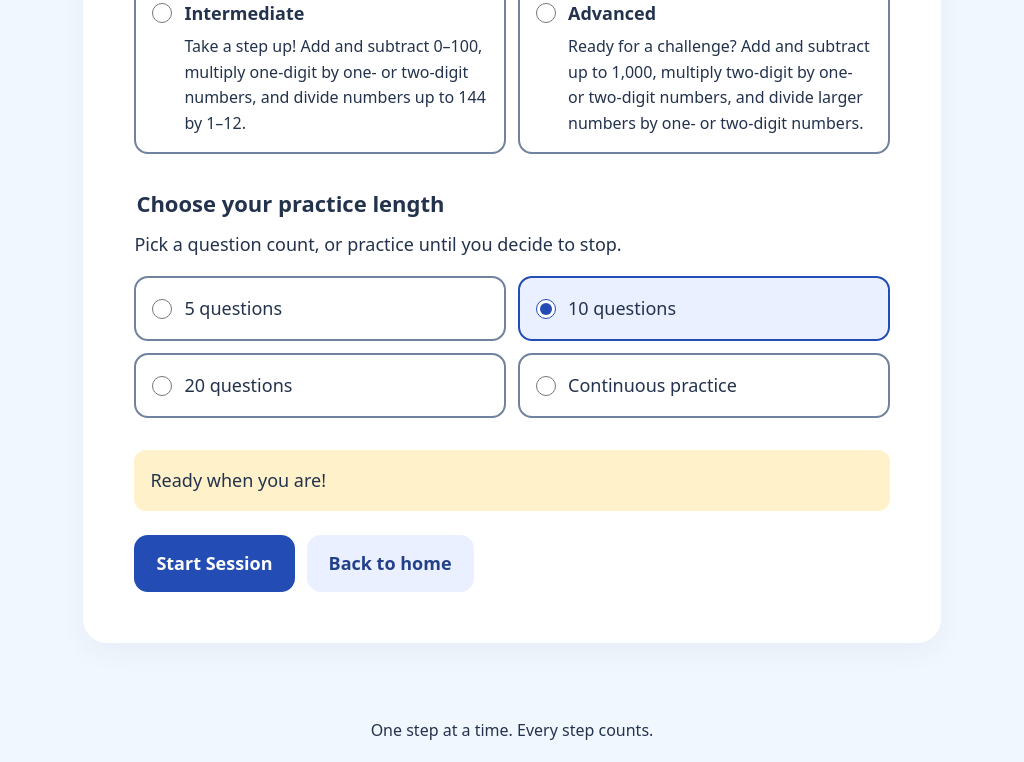
friendly recovery actions › keeps the page usable after a failed session start and allows a later retry
(page scrolled)
What coordinates should you click on to do the following:
click the button "Start Session"
I would click on:
 (214, 563)
Its box is [134,535,295,592].
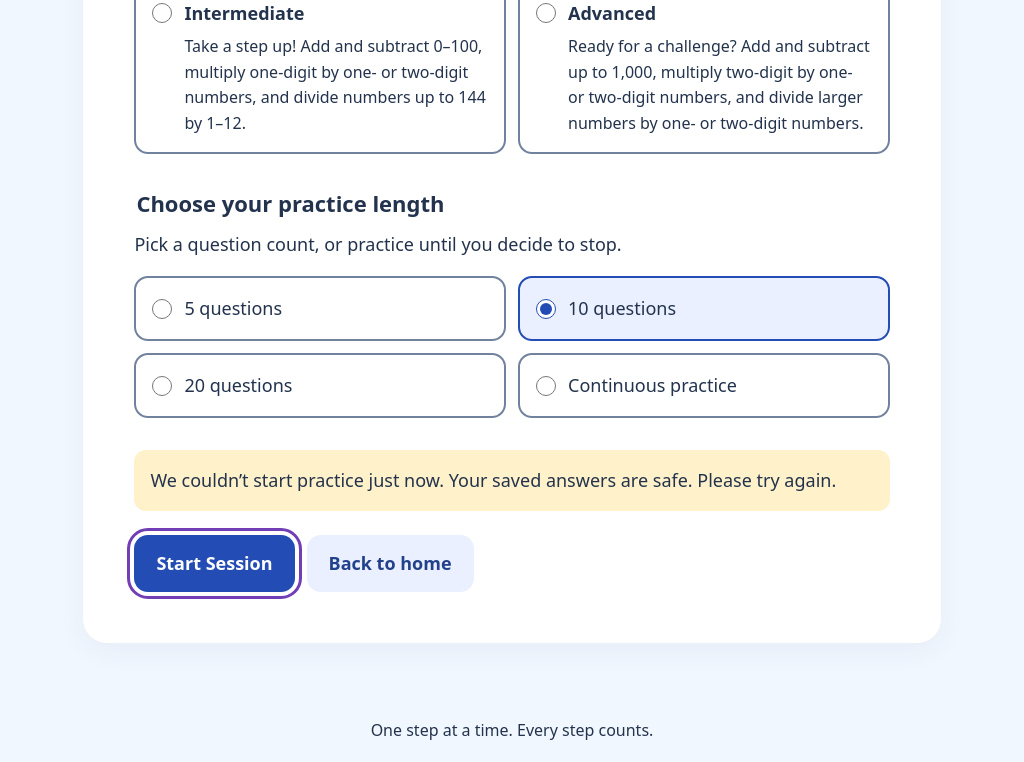
Expected: the message shows "couldn’t start practice", [150,468,836,492]
What coordinates should you click on to do the following:
click the button "Start Session"
I would click on:
 (214, 563)
Its box is [134,535,295,592].
(page scrolled)
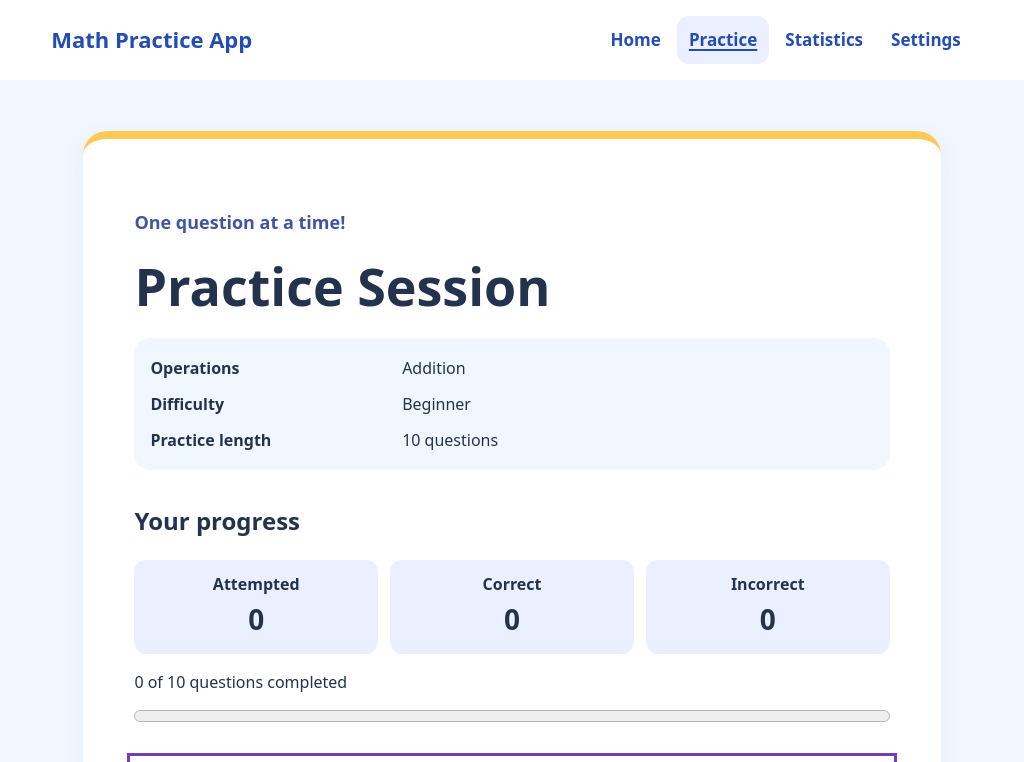
Expected: the heading "Practice Session" is shown, [134,250,550,321]
